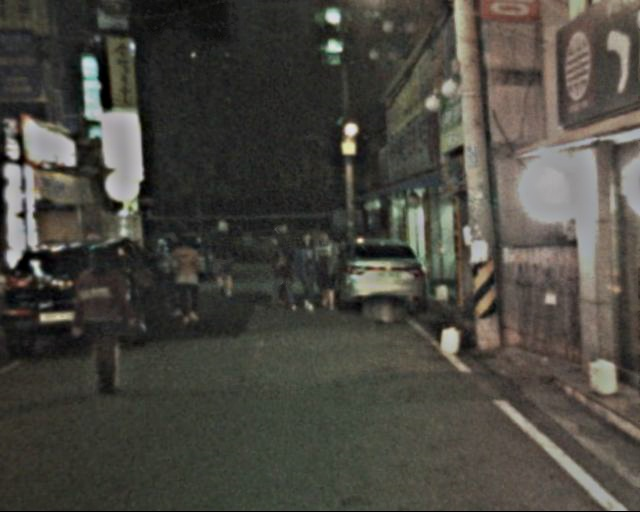person: (74, 243, 132, 391), (165, 235, 205, 319), (308, 229, 344, 310), (287, 233, 323, 310), (203, 218, 239, 294), (261, 236, 296, 308), (265, 223, 297, 293)
